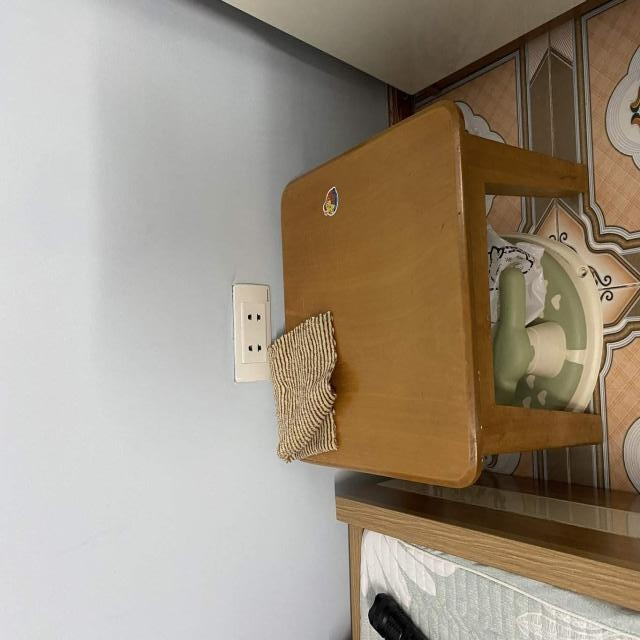outlet: (232, 284, 272, 384)
